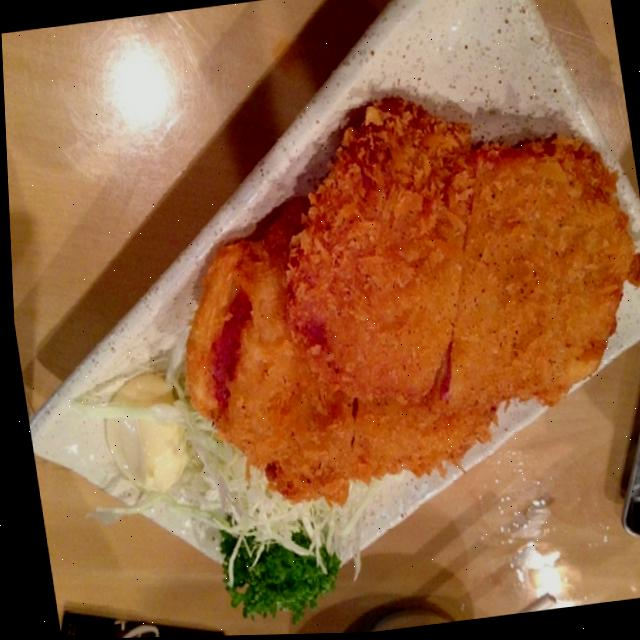炸货点心: (121, 42, 640, 563)
